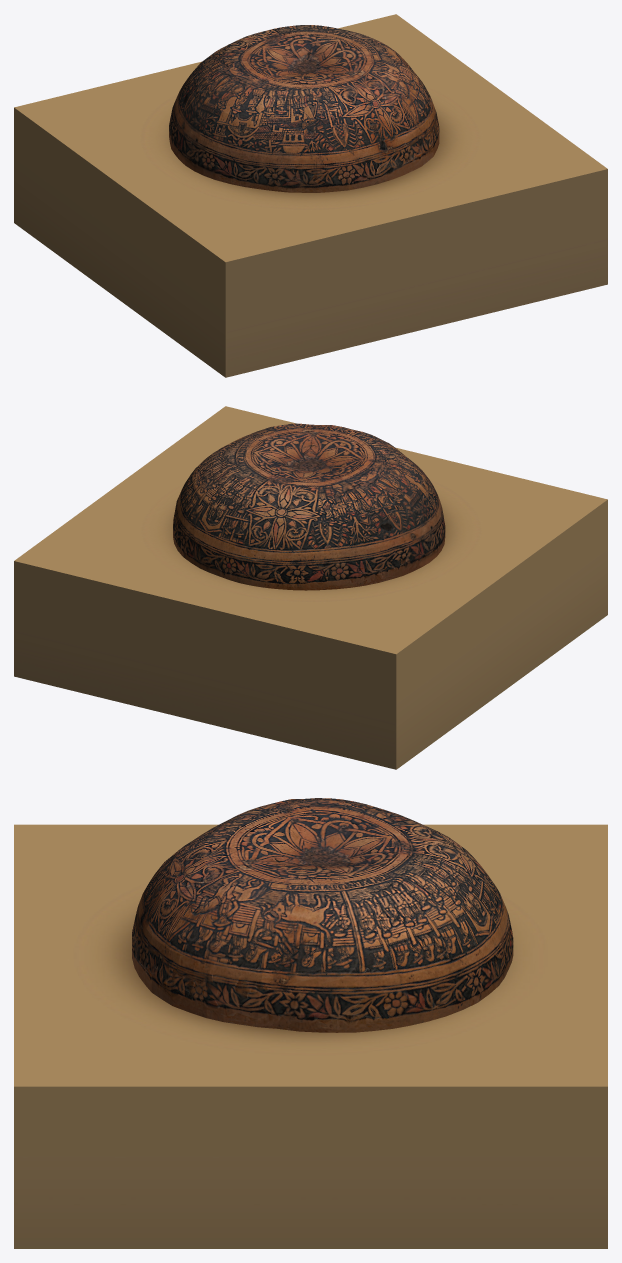
The model's file is bien03.FBX.
3 renders of one model, top to bottom at view 1: azimuth 30°, elevation 25°; view 2: azimuth 150°, elevation 25°; view 3: azimuth 270°, elevation 25°, orthographic. The views are drawn at different scales.
Parts seen in each view (by area): view 1: Box002, Box001; view 2: Box002, Box001; view 3: Box002, Box001.
Part boxes in pixels (x1,y1,x2,y2): Box002: (14,14,607,377); Box001: (169,25,439,192); Box002: (14,406,607,769); Box001: (173,423,445,590); Box002: (14,824,607,1248); Box001: (132,798,513,1032).
Bounding box in the file's own units: 157 × 76.09 × 151.
